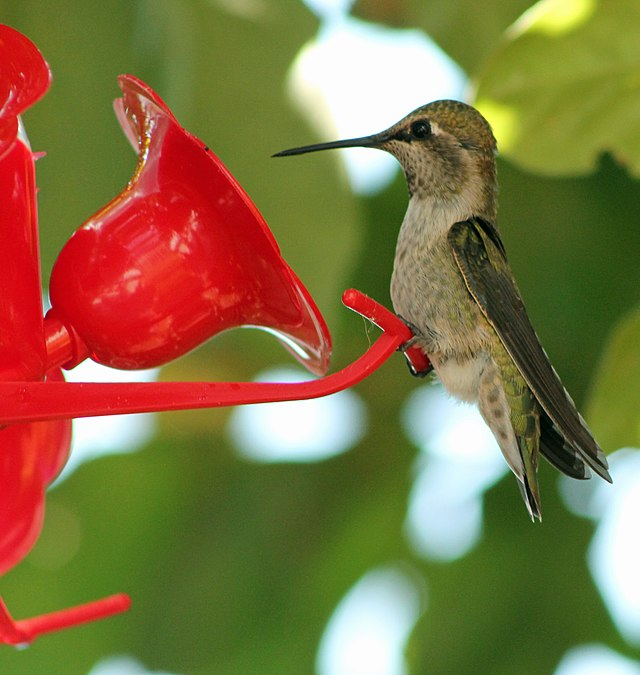calypte anna: (267, 98, 611, 541)
